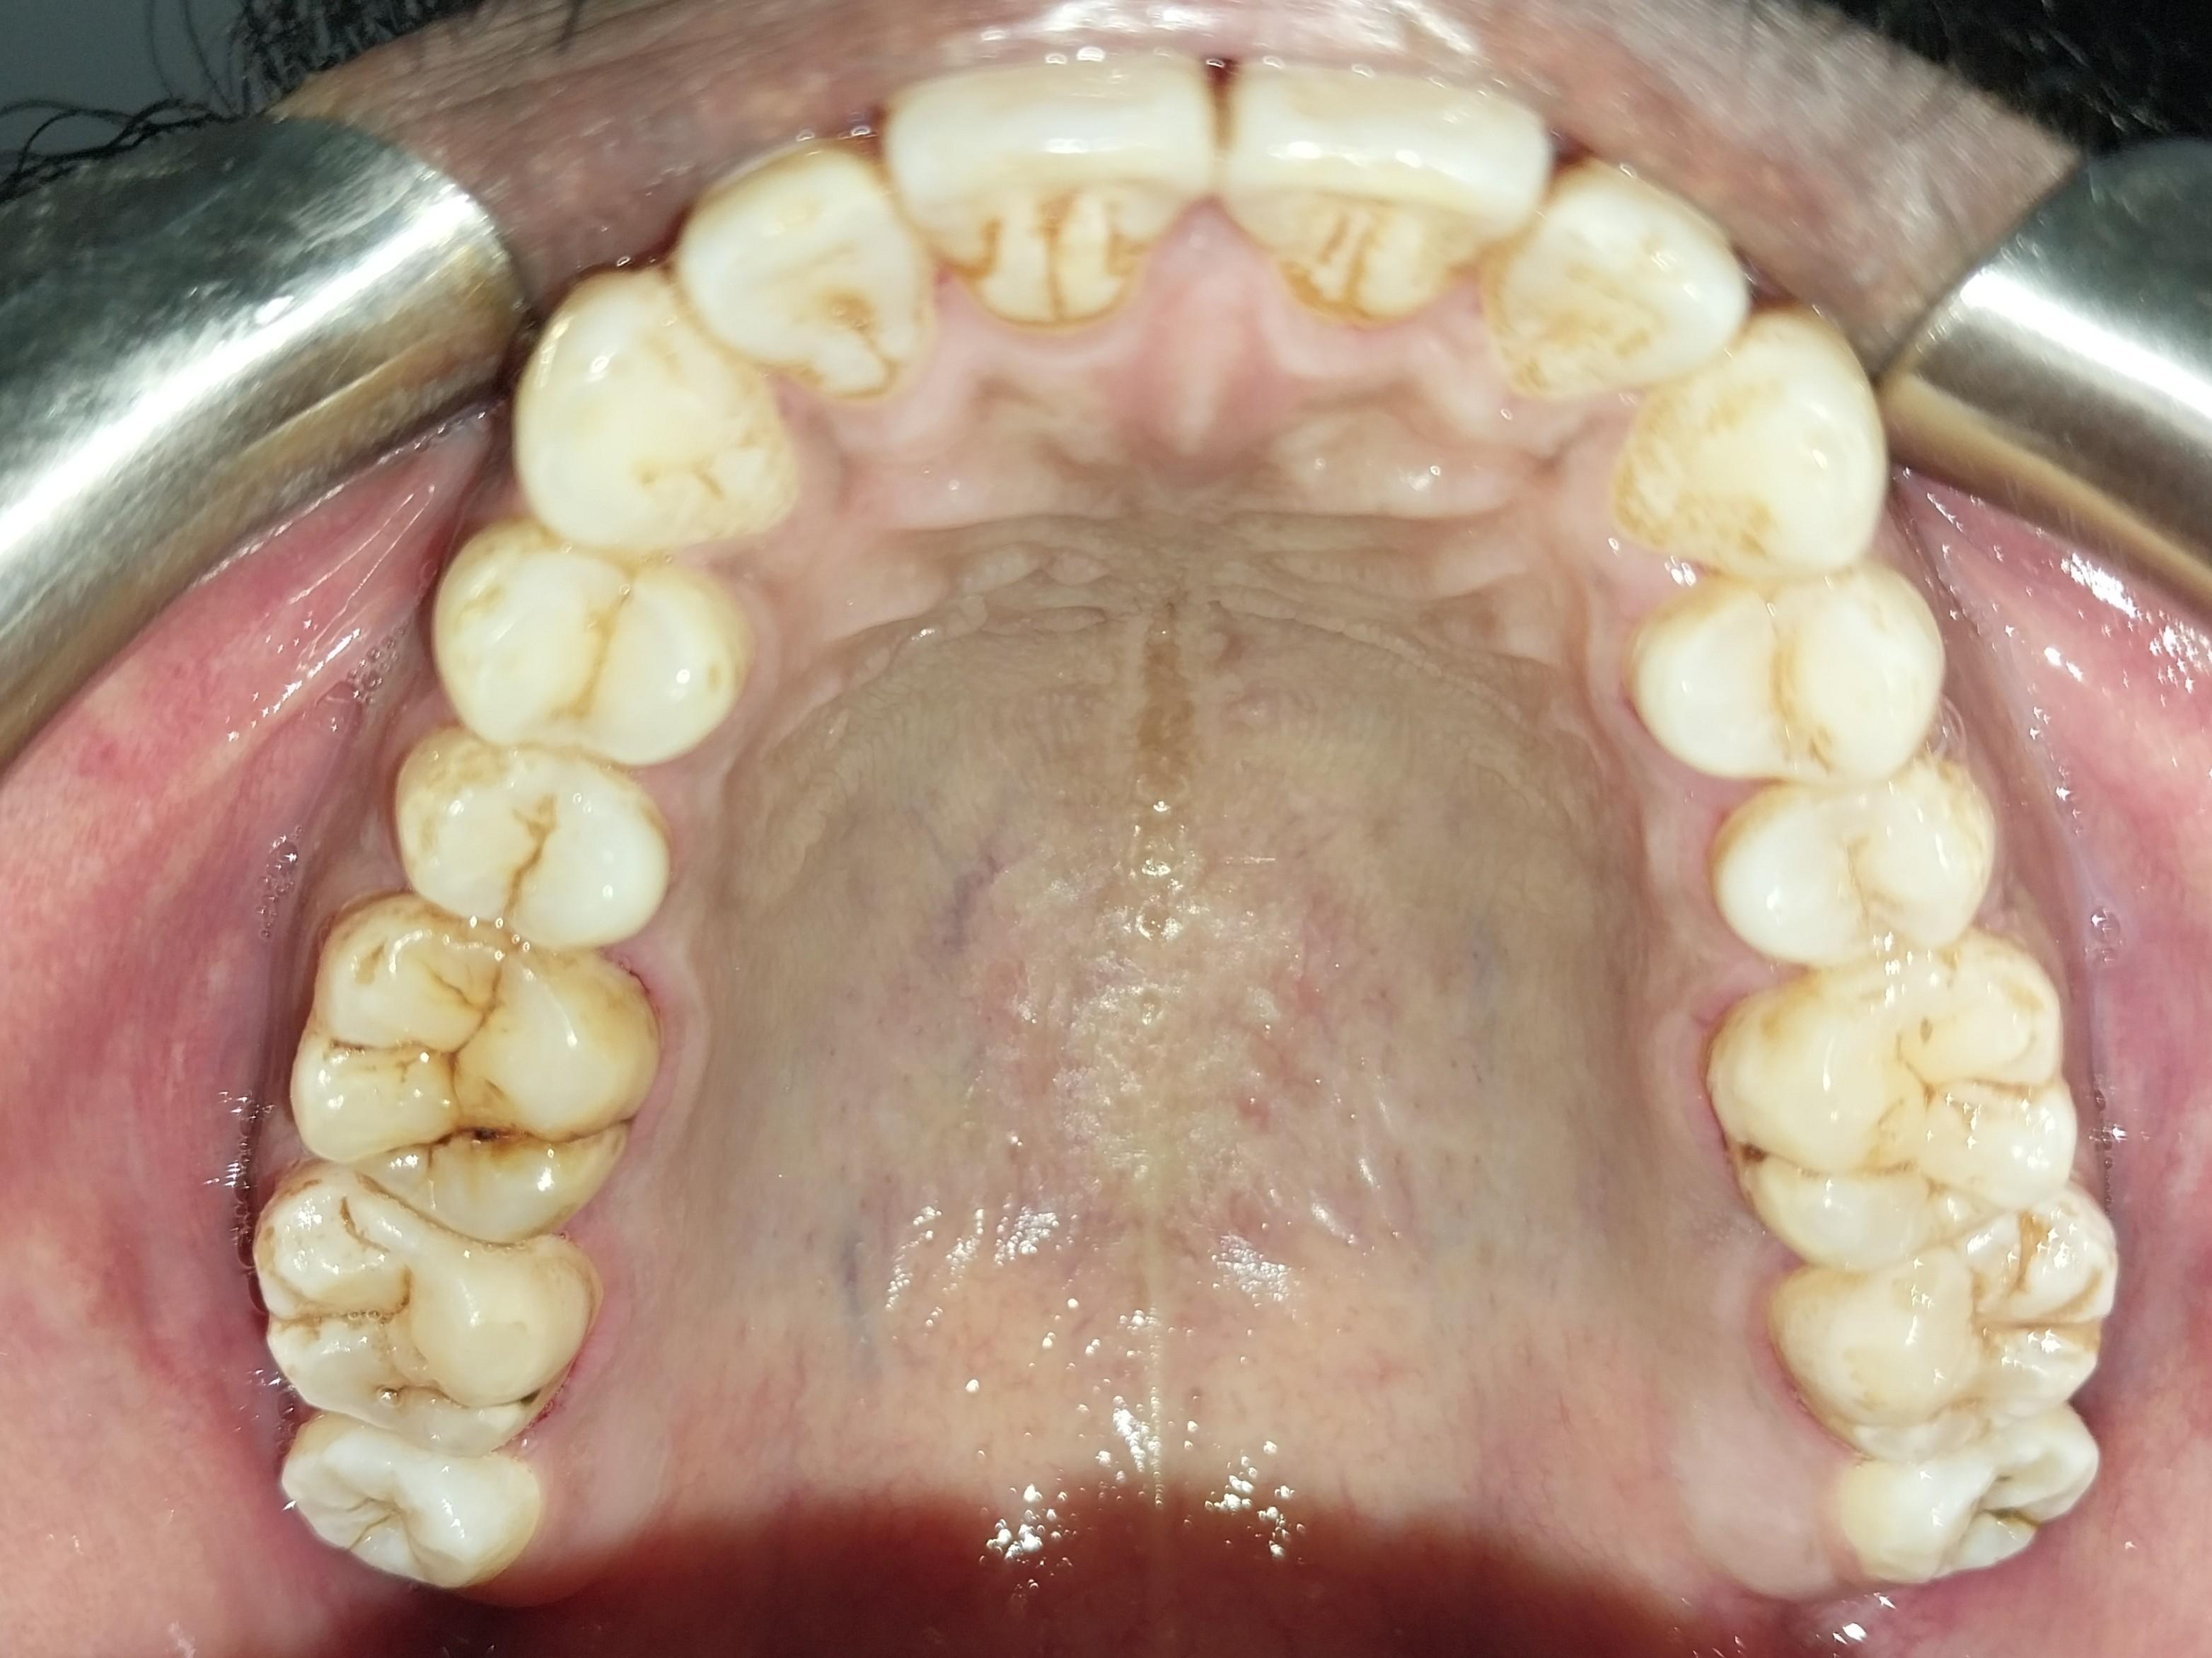D: (291, 917, 666, 1247)
